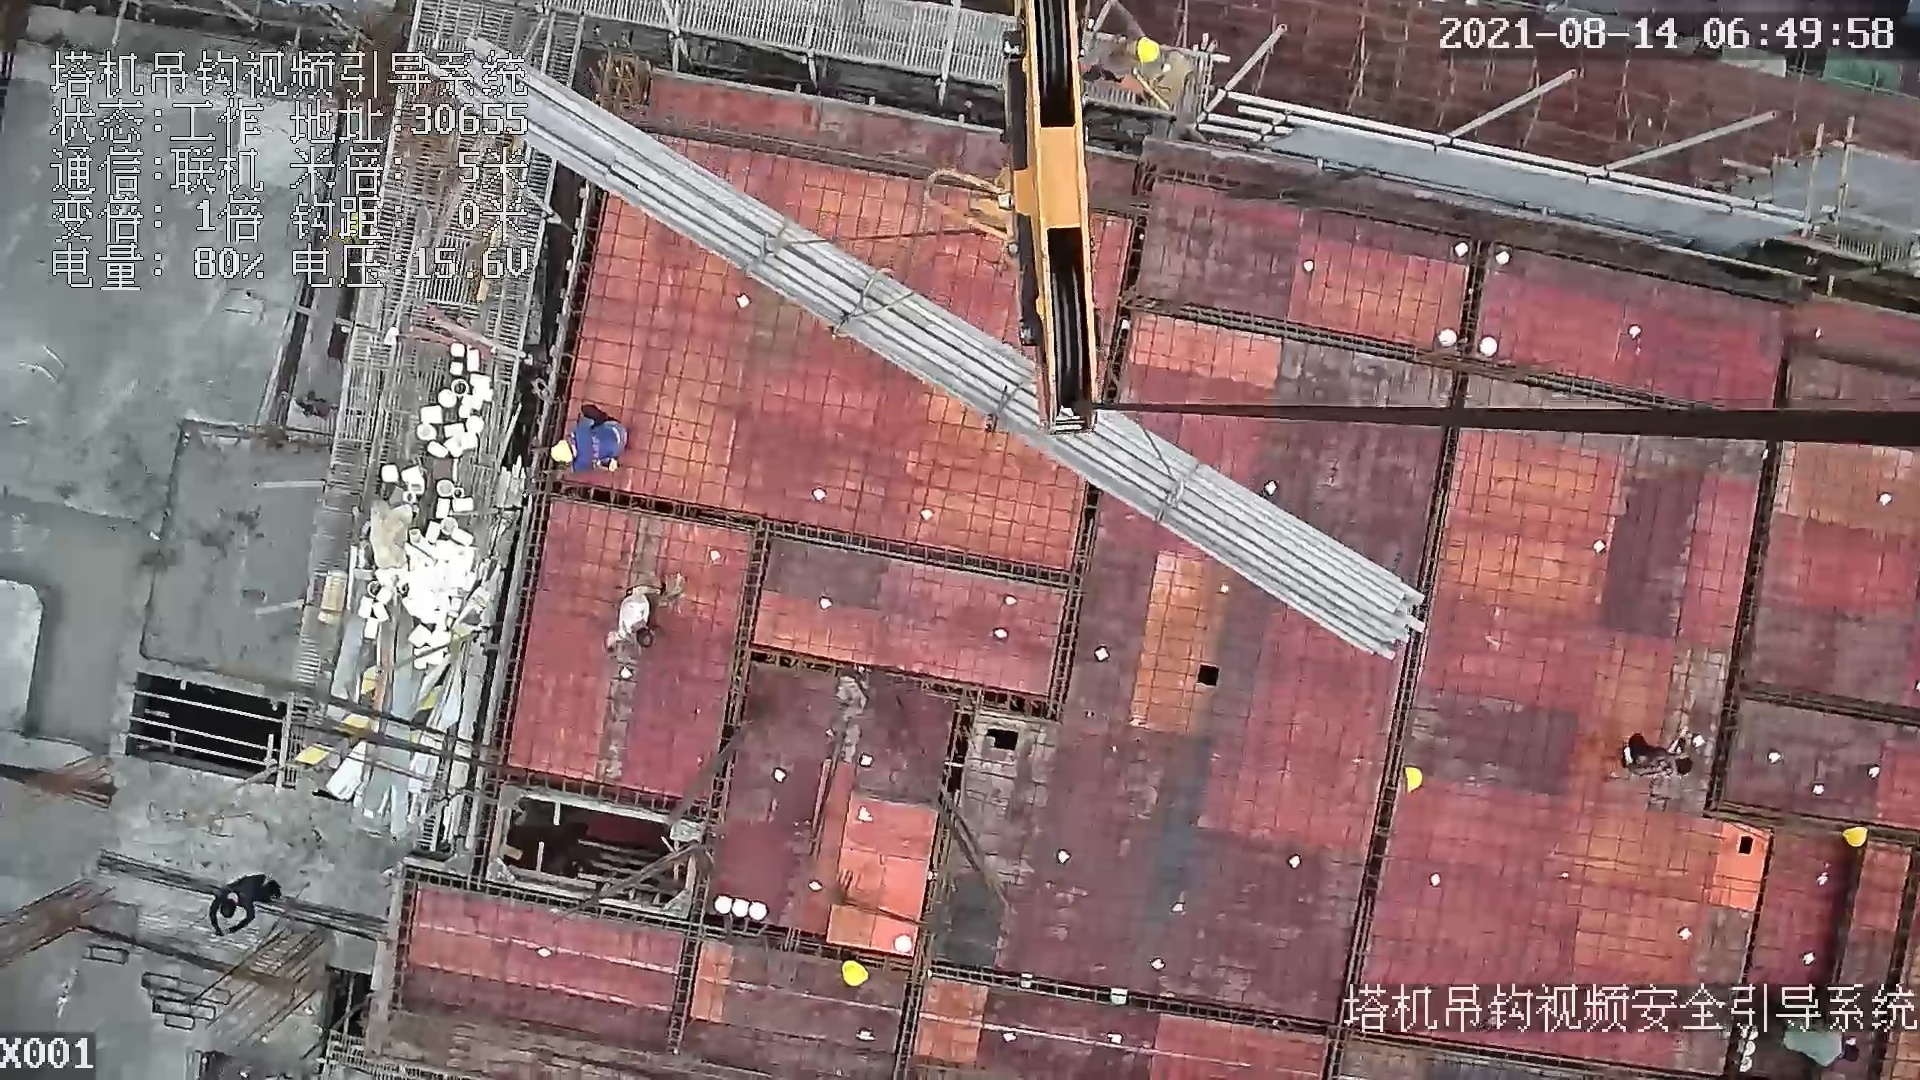helmet: (832, 938, 887, 991), (1127, 29, 1169, 74), (1839, 812, 1871, 861), (1400, 755, 1432, 793), (548, 432, 581, 465)
hook: (920, 4, 1106, 442)
person: (596, 565, 677, 656), (549, 401, 635, 478), (205, 868, 288, 941)
